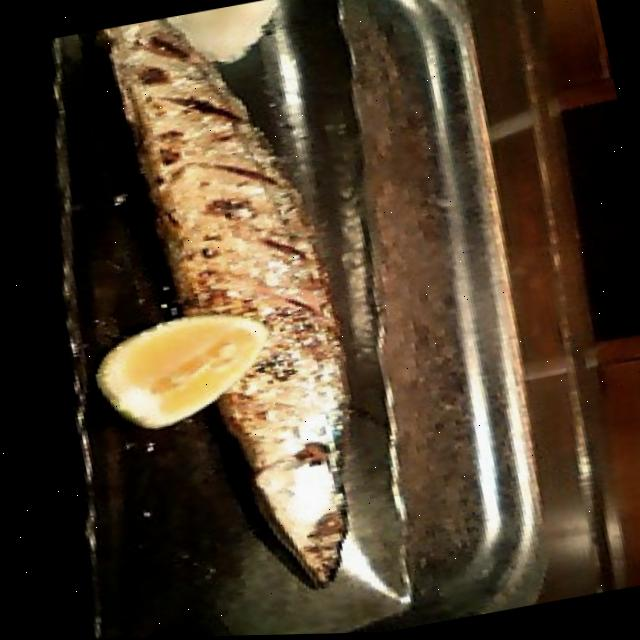熟制海鲜: (36, 0, 422, 639)
